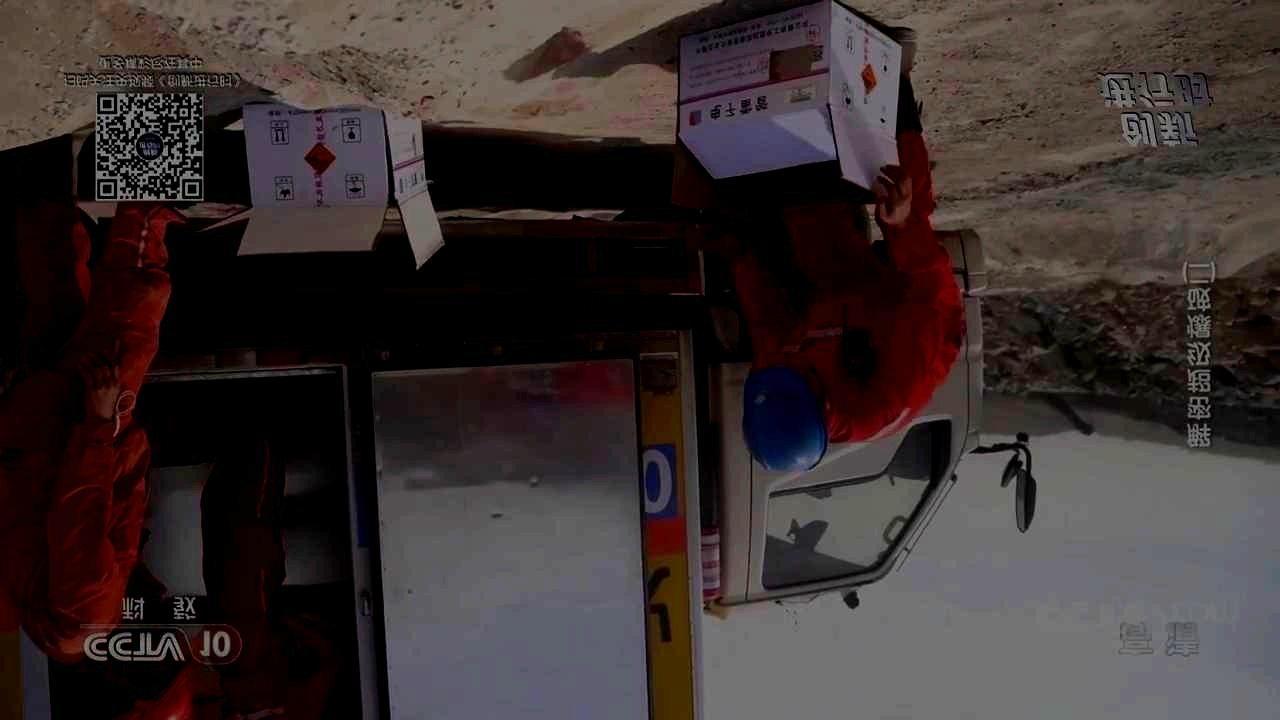helmet: (55, 643, 193, 720), (741, 367, 829, 475)
